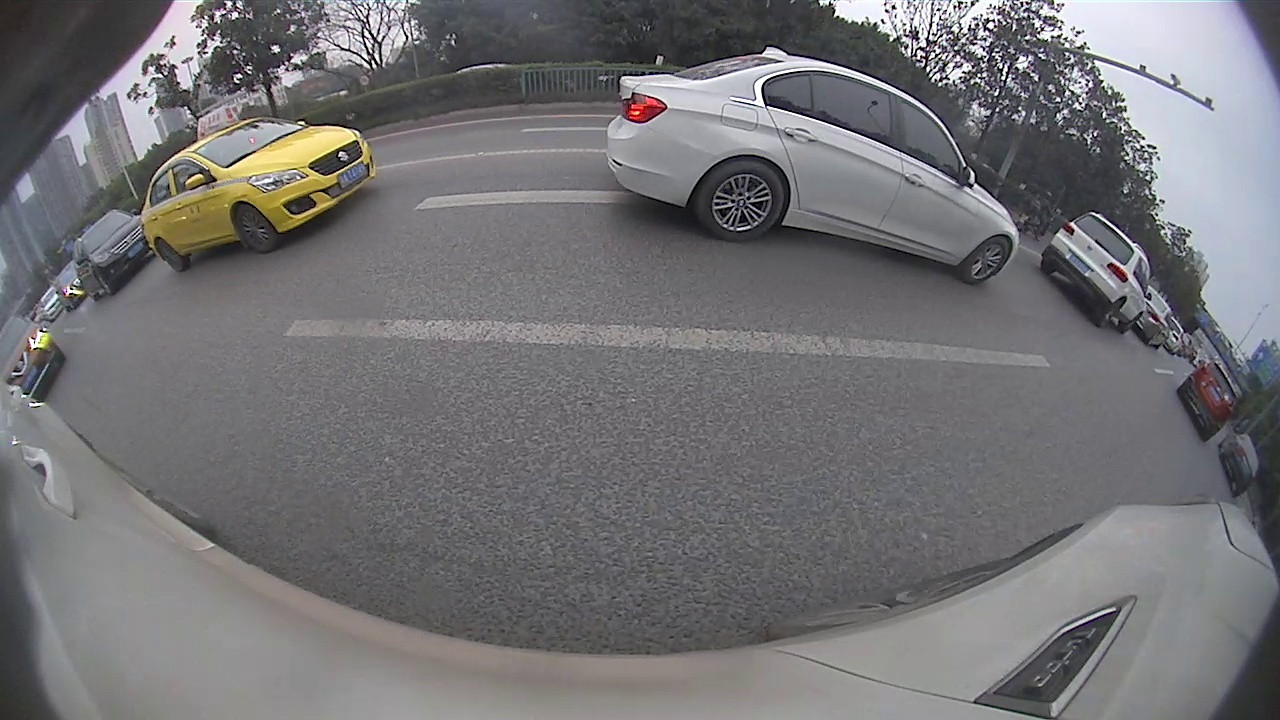car: (604, 47, 1022, 286), (140, 107, 375, 271), (1043, 211, 1151, 334), (71, 209, 150, 301), (1, 314, 66, 402), (1179, 359, 1240, 442), (1221, 432, 1260, 498), (1133, 286, 1175, 346)
front: (959, 235, 1013, 286), (234, 202, 280, 254), (94, 270, 116, 296)
rear: (694, 158, 787, 243), (155, 238, 188, 272)
